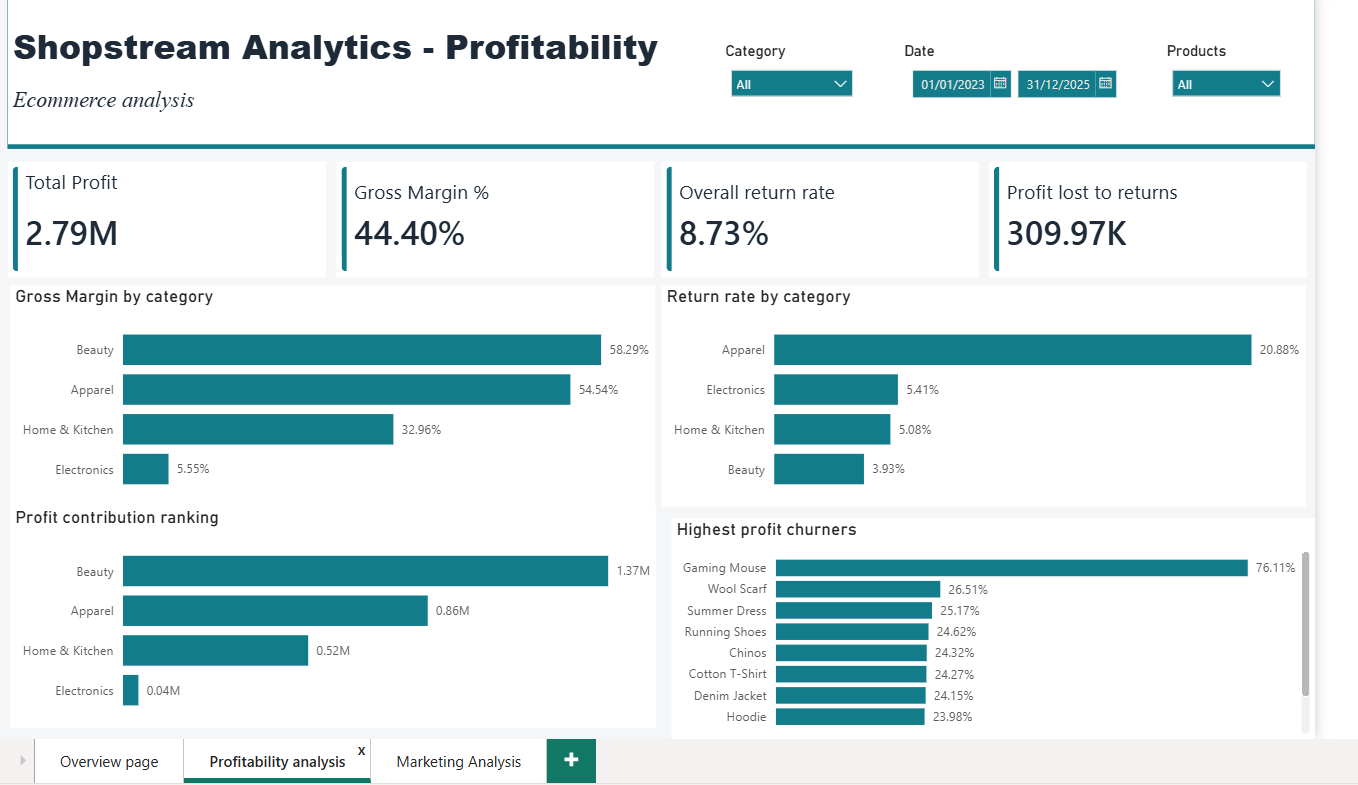

What the dashboard file says about the page in this screenshot:
{"tool":"powerbi","page":{"name":"Profitability","canvas":[1280,720],"ordinal":1},"visuals":[{"type":"cardVisual","title":"Total Revenue","fields":{"Data":["_Measures.Profit Lost to Returns"]},"box":[965.5,163.3,306.4,111.9],"z":0},{"type":"cardVisual","title":"Total Revenue","fields":{"Data":["_Measures.Return Rate %"]},"box":[649.1,163.3,306.4,111.9],"z":1000},{"type":"cardVisual","title":"Total Revenue","fields":{"Data":["_Measures.Gross Margin %"]},"box":[335.6,163.3,306.4,111.9],"z":2000},{"type":"cardVisual","title":"Total Revenue","fields":{"Data":["_Measures.Total Profit"]},"box":[18.1,163.3,307.4,111.9],"z":3000},{"type":"shape","box":[18.6,0,1261.4,150],"z":4000},{"type":"textbox","box":[30.2,163.8,141.7,48.8],"z":5000},{"type":"shape","box":[18.6,0,1261.4,146],"z":6000},{"type":"textbox","box":[18.6,24.4,638.8,61.6],"z":7000},{"type":"textbox","box":[18.6,86,341.5,40.7],"z":8000},{"type":"textbox","box":[977.1,173.8,240.3,49.7],"z":9000},{"type":"textbox","box":[660.6,173.8,182.7,49.7],"z":10000},{"type":"textbox","box":[347.3,174.2,141.7,48.8],"z":11000},{"type":"clusteredBarChart","title":" Gross Margin by category","fields":{"Category":["clean_categories.category_name"],"Y":["_Measures.Gross Margin %"]},"box":[20.4,282.9,622.5,213.7],"z":12000},{"type":"clusteredBarChart","title":" Return rate by category","fields":{"Y":["_Measures.Return Rate %"],"Category":["clean_categories.category_name"]},"box":[649.1,282.9,621.6,213.7],"z":13000},{"type":"clusteredBarChart","title":"Highest profit churners","fields":{"Category":["clean_products.product_name"],"Y":["_Measures.% Profit Lost to Returns"]},"box":[658.7,506.7,621.3,213.5],"z":14000},{"type":"slicer","title":"Category","fields":{"Values":["clean_categories.category_name"]},"box":[706,46.5,138,77],"z":15000},{"type":"clusteredBarChart","title":"Profit contribution ranking","fields":{"Category":["clean_categories.category_name"],"Y":["_Measures.Total Profit"]},"box":[20.2,496.3,623.3,213.5],"z":15000},{"type":"slicer","title":"Products","fields":{"Values":["clean_products.product_name"]},"box":[1131.6,46.5,124.9,77],"z":15001},{"type":"slicer","title":"Date","fields":{"Values":["DimDate.Date"]},"box":[878.8,46.5,239.7,77],"z":15002}]}

Visuals, with their boxes on the page's 1280x720 design canvas (x1, y1, x2, y2). These are canvas units, not pixel positions in the 1358x785 screenshot, which may show the page scaled, cropped or inside an application window:
"Total Revenue" cardVisual: 966 163 1272 275
"Total Revenue" cardVisual: 649 163 956 275
"Total Revenue" cardVisual: 336 163 642 275
"Total Revenue" cardVisual: 18 163 326 275
shape: 19 0 1280 150
textbox: 30 164 172 213
shape: 19 0 1280 146
textbox: 19 24 657 86
textbox: 19 86 360 127
textbox: 977 174 1217 224
textbox: 661 174 843 224
textbox: 347 174 489 223
" Gross Margin by category" clusteredBarChart: 20 283 643 497
" Return rate by category" clusteredBarChart: 649 283 1271 497
"Highest profit churners" clusteredBarChart: 659 507 1280 720
"Category" slicer: 706 46 844 124
"Profit contribution ranking" clusteredBarChart: 20 496 644 710
"Products" slicer: 1132 46 1256 124
"Date" slicer: 879 46 1118 124
